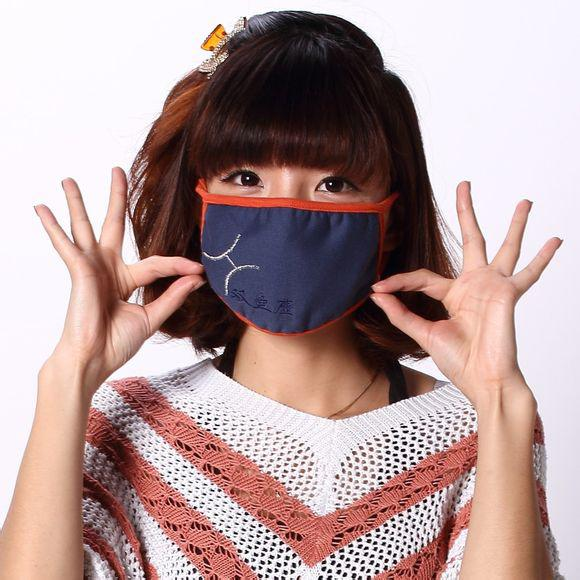OK: (200, 140, 393, 333)
